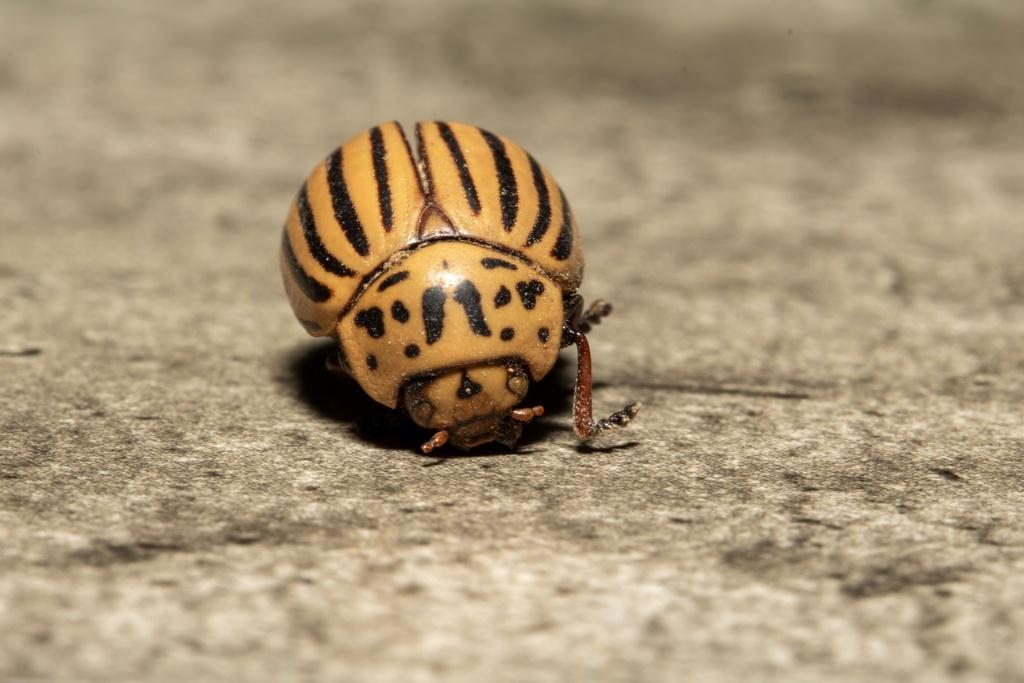potato_beetle: (219, 72, 675, 527)
